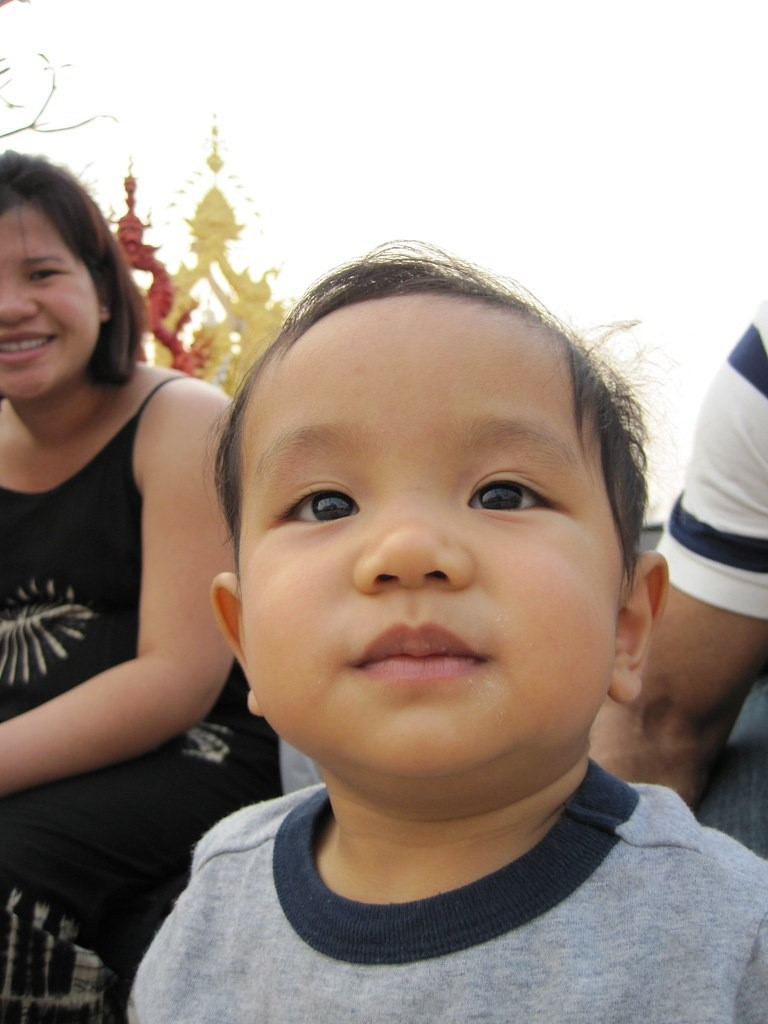face_no_mask: (206, 286, 669, 807), (3, 155, 116, 412)
